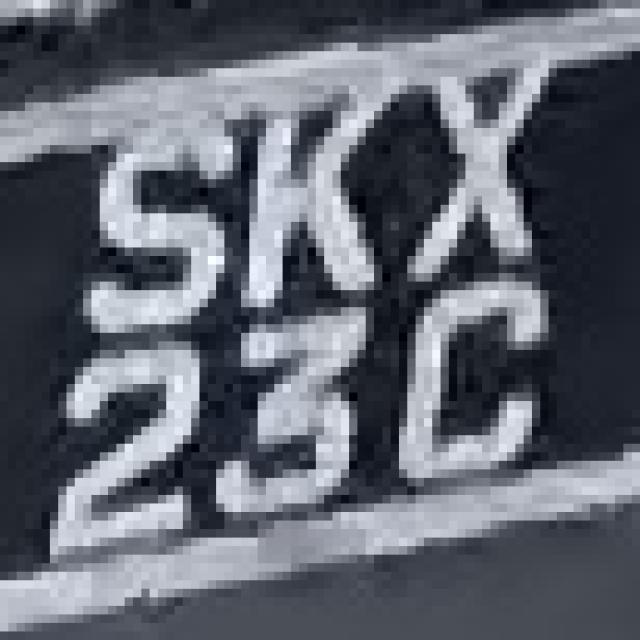2: (42, 324, 200, 580)
3: (192, 298, 382, 538)
C: (358, 282, 548, 512)
K: (224, 59, 390, 316)
S: (91, 94, 208, 350)
X: (407, 34, 557, 282)
